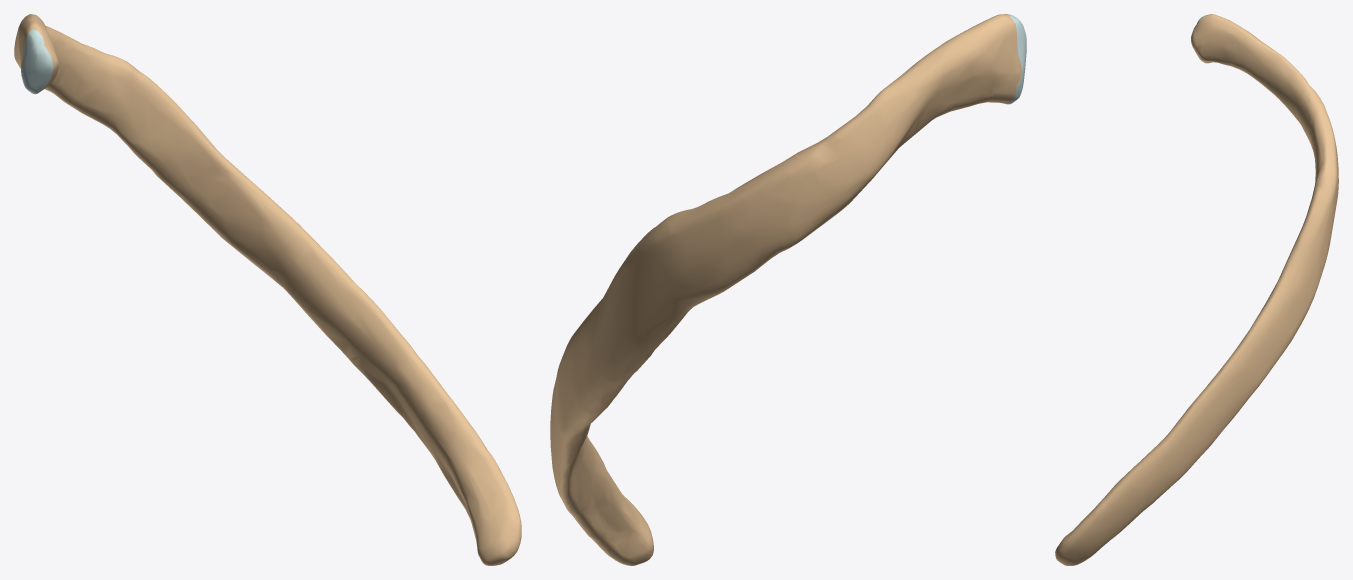
Rendered from 11th_rib.l_Generated_Mesh_From_X3D.893.glb.
The picture shows the model from 3 angles, left to right: view 1: azimuth 30°, elevation 25°; view 2: azimuth 150°, elevation 25°; view 3: azimuth 270°, elevation 25°; orthographic projection. The views are drawn at different scales.
Parts seen in each view (by area): view 1: 11th_rib.l_Generated_Mesh_From_X3D.893; view 2: 11th_rib.l_Generated_Mesh_From_X3D.893; view 3: 11th_rib.l_Generated_Mesh_From_X3D.893.
Boxes of the visible parts, bbox=[...] form: 11th_rib.l_Generated_Mesh_From_X3D.893: bbox=[14, 14, 521, 565]; 11th_rib.l_Generated_Mesh_From_X3D.893: bbox=[550, 14, 1026, 565]; 11th_rib.l_Generated_Mesh_From_X3D.893: bbox=[1055, 14, 1338, 565].
Size of the model in its own units: 0.0998 by 0.132 by 0.0812.
